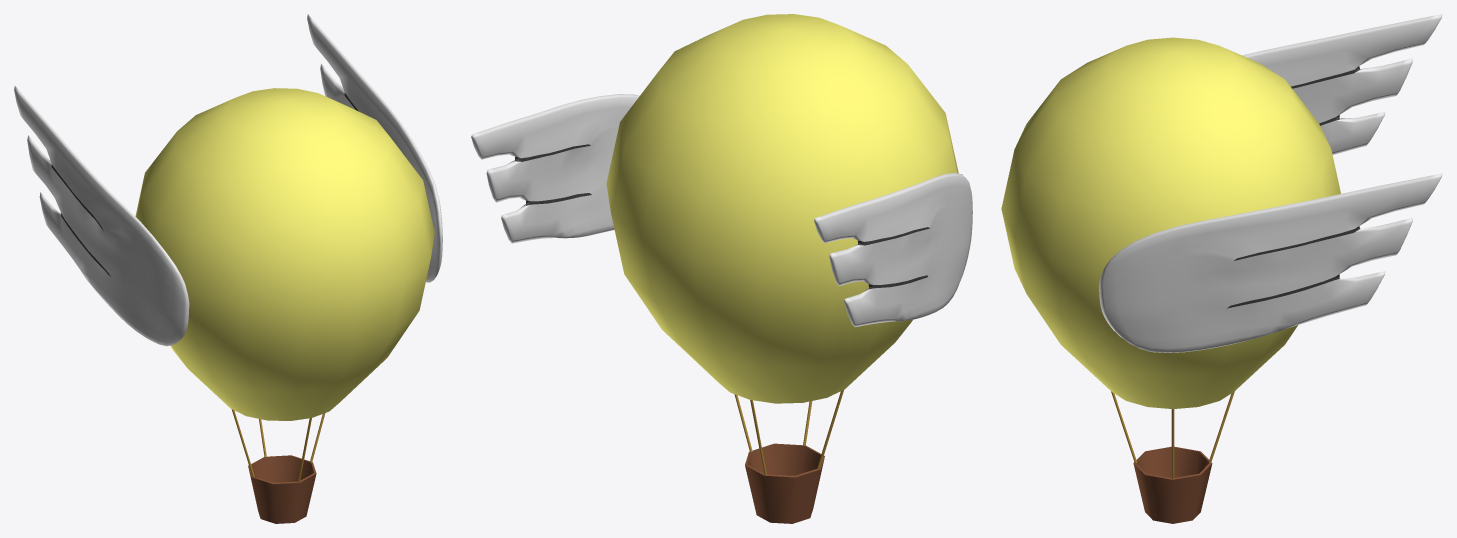
The model's file is Lv3_FB_Flash.FBX.
The picture shows the model from 3 angles, left to right: view 1: azimuth 30°, elevation 25°; view 2: azimuth 150°, elevation 25°; view 3: azimuth 270°, elevation 25°; orthographic projection. The views are drawn at different scales.
Parts seen in each view (by area): view 1: Sphere001, Plane001, Cylinder001, Line003; view 2: Sphere001, Plane001, Cylinder001, Line003; view 3: Sphere001, Plane001, Cylinder001, Line003.
Boxes of the visible parts, bbox=[...] form: Sphere001: bbox=[135, 88, 434, 420]; Plane001: bbox=[14, 14, 442, 346]; Cylinder001: bbox=[248, 455, 316, 523]; Line003: bbox=[231, 409, 325, 481]; Sphere001: bbox=[606, 14, 958, 403]; Plane001: bbox=[471, 94, 972, 326]; Cylinder001: bbox=[745, 443, 824, 523]; Line003: bbox=[734, 390, 843, 474]; Sphere001: bbox=[1001, 37, 1340, 408]; Plane001: bbox=[1099, 14, 1442, 352]; Cylinder001: bbox=[1133, 446, 1212, 523]; Line003: bbox=[1111, 391, 1234, 478].
Bounding box in the file's own units: 147 × 192 × 167.
